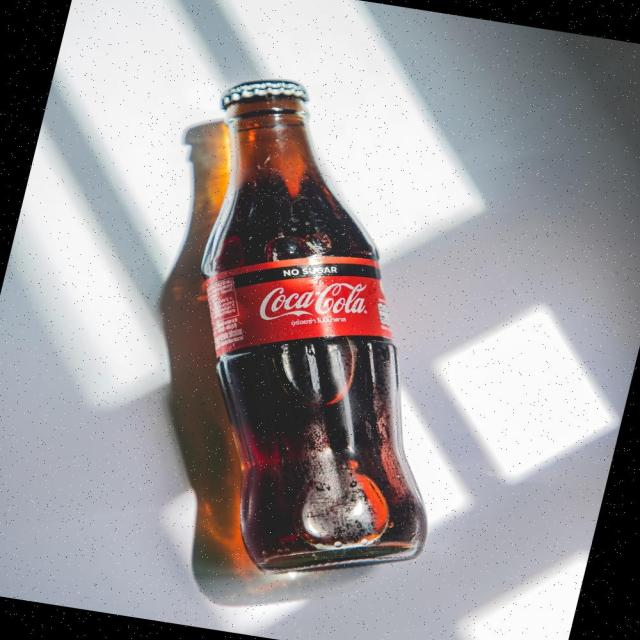coca-cola: (86, 58, 542, 596)
